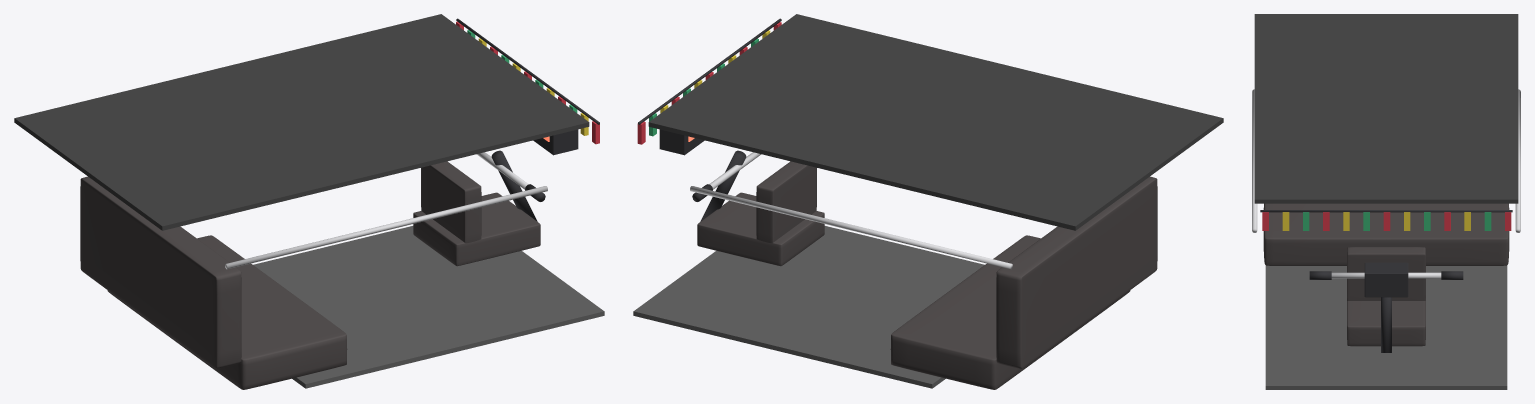
The model's file is interior_auto.glb.
3 renders of one model, left to right at view 1: azimuth 30°, elevation 25°; view 2: azimuth 150°, elevation 25°; view 3: azimuth 270°, elevation 25°, orthographic. The views are drawn at different scales.
Visible parts, largest first — view 1: Cabin, SteeringWheel; view 2: Cabin, SteeringWheel; view 3: Cabin, SteeringWheel.
Part boxes in pixels (x1,y1,x2,y2): Cabin: [14, 14, 604, 389]; SteeringWheel: [477, 152, 545, 201]; Cabin: [633, 14, 1223, 389]; SteeringWheel: [692, 152, 760, 201]; Cabin: [1252, 14, 1520, 389]; SteeringWheel: [1309, 271, 1463, 279].
Bounding box in the file's own units: 2.24 × 0.91 × 1.22.
